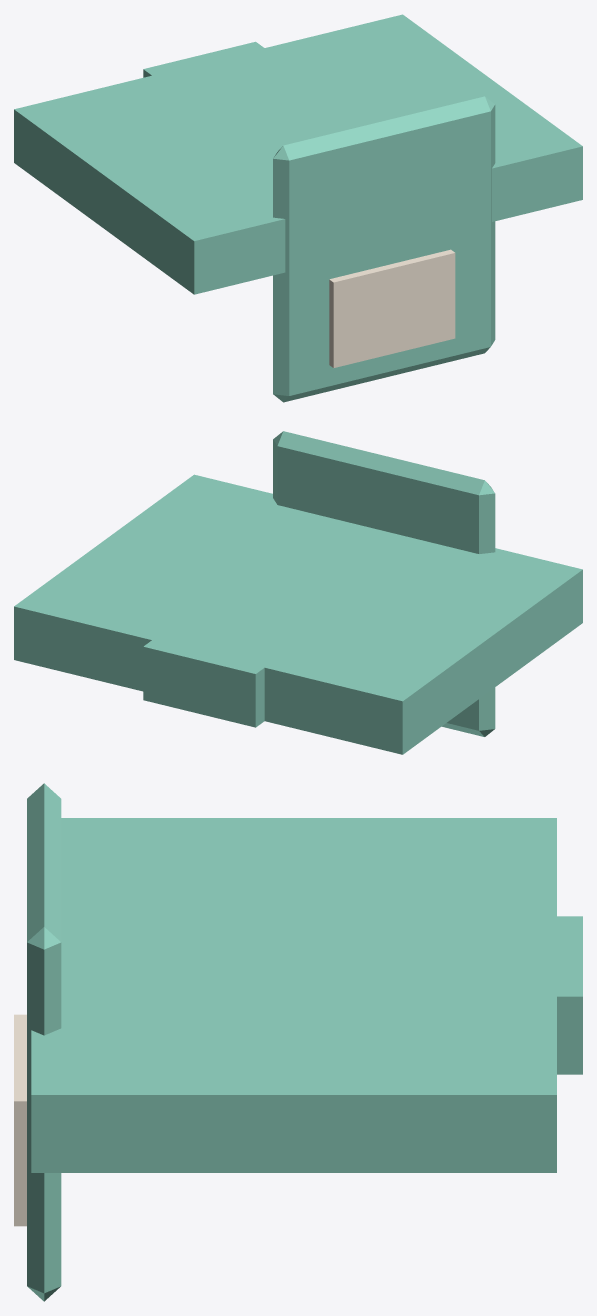
File: CatCafe_Accessory_Apron.glb
3 views of the same model, one above another, from view 1: azimuth 30°, elevation 25°; view 2: azimuth 150°, elevation 25°; view 3: azimuth 270°, elevation 25° (orthographic). The views are drawn at different scales.
Visible parts, largest first — view 1: CatCafe_Accessory_Apron; view 2: CatCafe_Accessory_Apron; view 3: CatCafe_Accessory_Apron.
Boxes of the visible parts, <box> form: CatCafe_Accessory_Apron: <box>14,14,582,402</box>; CatCafe_Accessory_Apron: <box>14,431,582,754</box>; CatCafe_Accessory_Apron: <box>14,783,582,1301</box>.
Size of the model in its own units: 0.722 by 0.456 by 0.627.
1 material, 1 textured.
